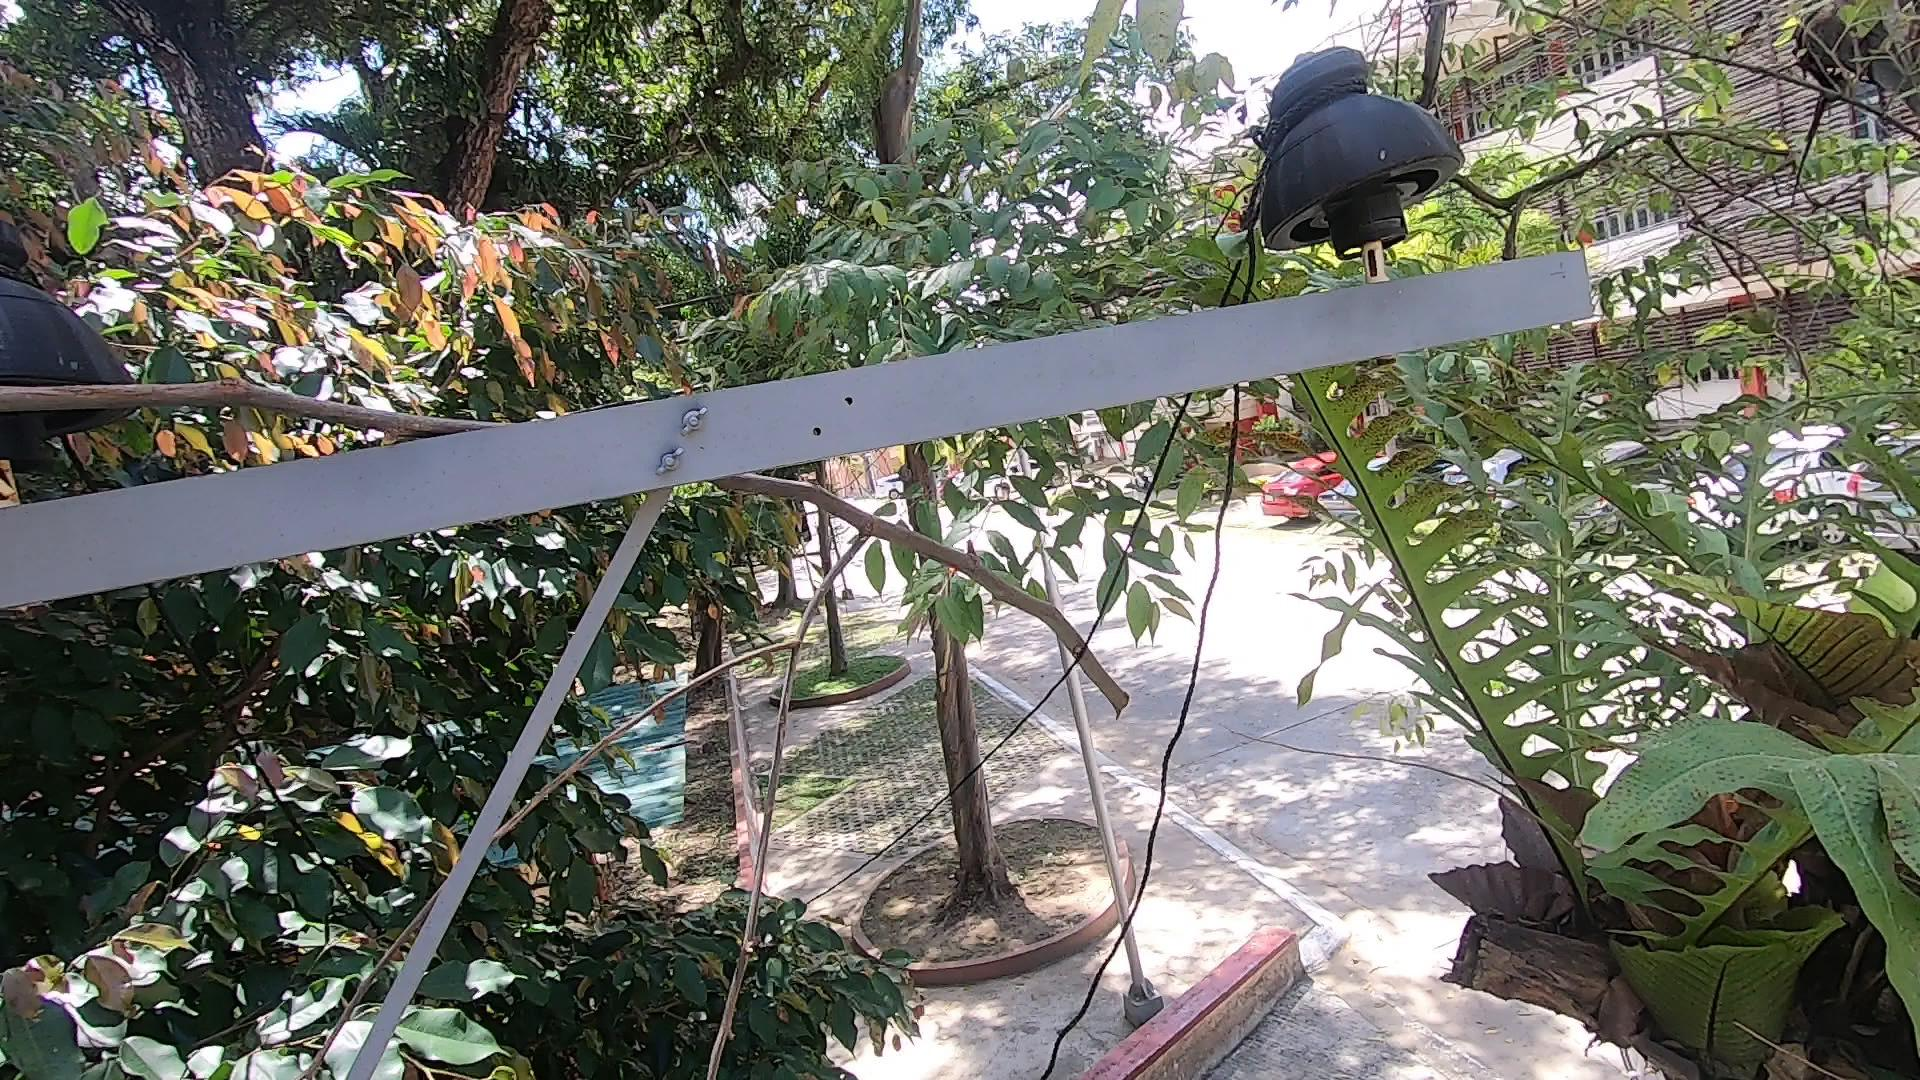tree branch: (297, 463, 1242, 1080), (1, 375, 483, 433)
